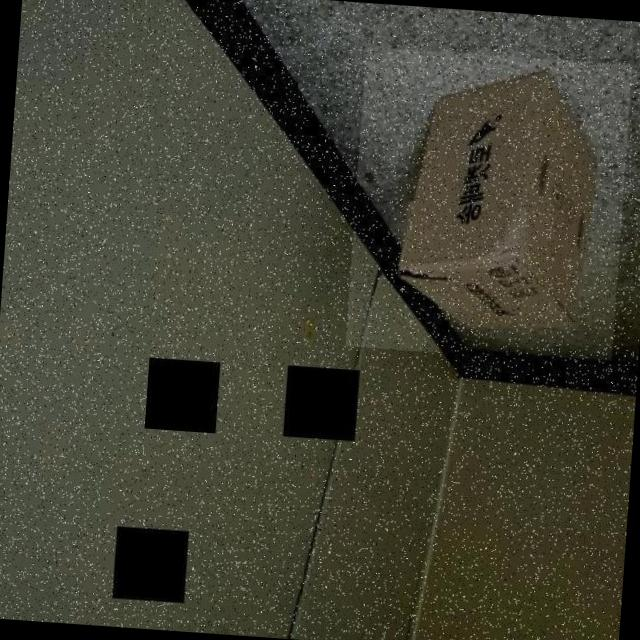box: (345, 46, 632, 365)
